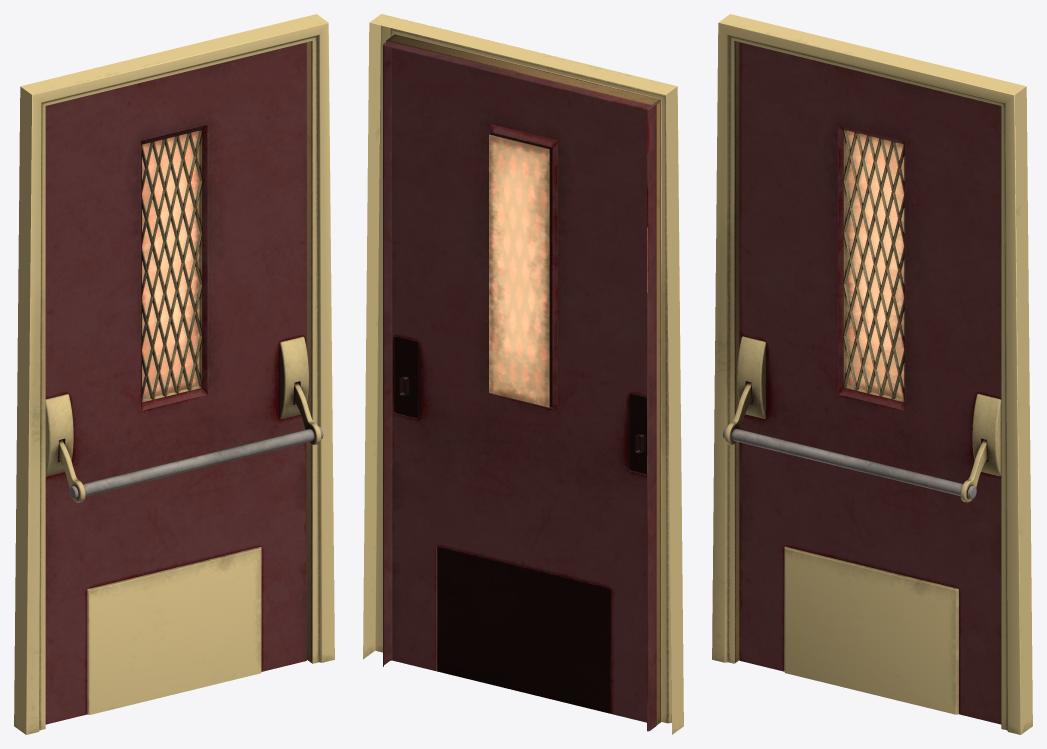
Rendered from B1M1_DoorExit_GEO.fbx.
The picture shows the model from 3 angles, left to right: view 1: azimuth 30°, elevation 25°; view 2: azimuth 150°, elevation 25°; view 3: azimuth 330°, elevation 25°; orthographic projection.
Parts seen in each view (by area): view 1: B1M1_DoorExit, DoorFrame, Handle; view 2: B1M1_DoorExit, DoorFrame; view 3: B1M1_DoorExit, DoorFrame, Handle.
Boxes of the visible parts, x1=… form: B1M1_DoorExit: x1=45, y1=42, x2=308, y2=724; DoorFrame: x1=14, y1=14, x2=334, y2=734; Handle: x1=58, y1=382, x2=323, y2=502; B1M1_DoorExit: x1=383, y1=41, x2=656, y2=731; DoorFrame: x1=363, y1=14, x2=683, y2=734; B1M1_DoorExit: x1=737, y1=42, x2=1001, y2=724; DoorFrame: x1=712, y1=14, x2=1032, y2=734; Handle: x1=723, y1=381, x2=987, y2=502.
Bounding box in the file's own units: 104 × 206 × 20.94.
